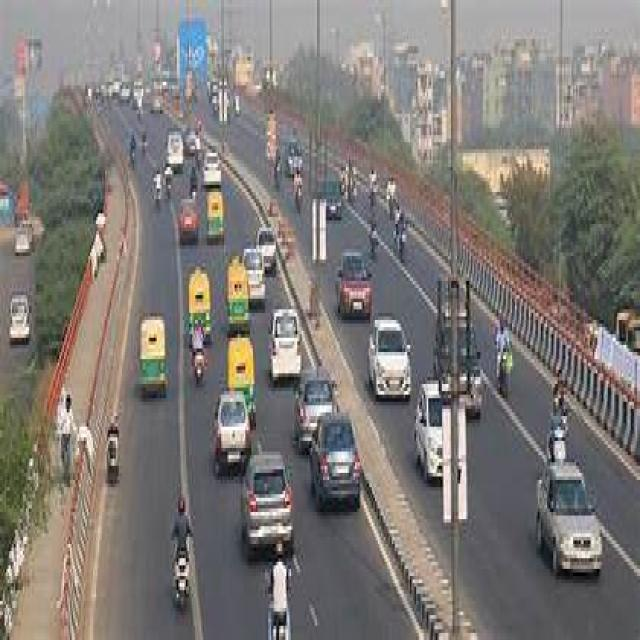Auto: (228, 338, 254, 424), (139, 318, 166, 394), (226, 257, 249, 331), (189, 274, 210, 340), (208, 192, 224, 238)
Car: (270, 306, 359, 510), (215, 391, 294, 553), (215, 397, 292, 554), (538, 461, 601, 575), (368, 319, 411, 400), (415, 382, 444, 480), (336, 254, 371, 319), (339, 254, 371, 314), (271, 315, 299, 351), (9, 295, 29, 340)
Two Wheeler: (172, 548, 190, 608), (268, 612, 291, 639)
